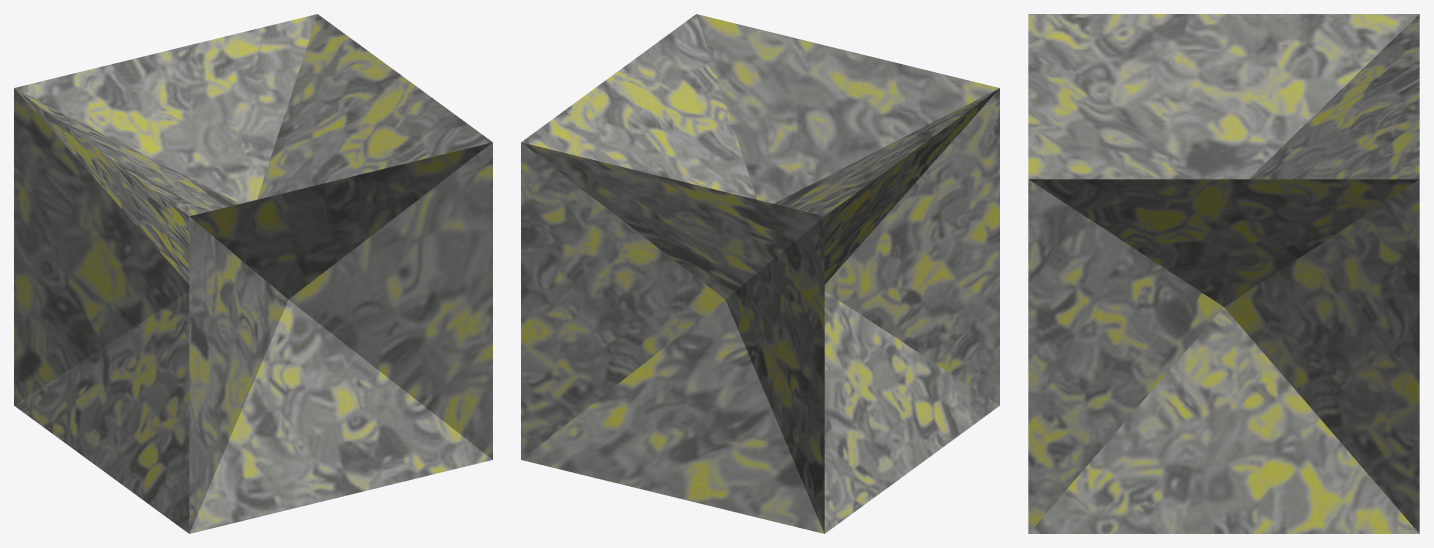
The model's file is carbon-fiber.glb.
The picture shows the model from 3 angles, left to right: view 1: azimuth 30°, elevation 25°; view 2: azimuth 150°, elevation 25°; view 3: azimuth 270°, elevation 25°; orthographic projection. The views are drawn at different scales.
Parts seen in each view (by area): view 1: carbon-fiber; view 2: carbon-fiber; view 3: carbon-fiber.
Boxes of the visible parts, x1,y1,x2,y2 form: carbon-fiber: (14,14,492,533); carbon-fiber: (521,14,999,533); carbon-fiber: (1028,14,1419,533).
Bounding box in the file's own units: 1 × 1 × 1.
Materials: 1 (1 with a texture image).
